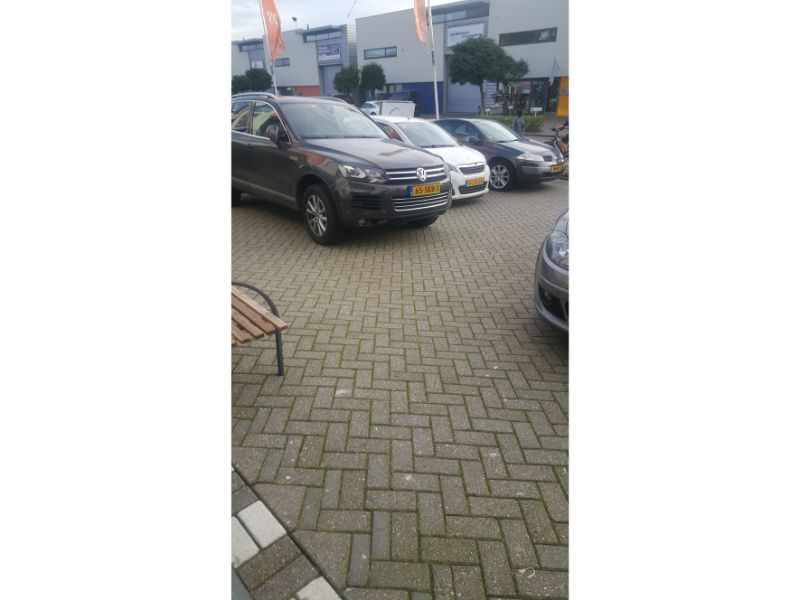kenteken: (409, 183, 441, 196), (466, 177, 484, 186)
